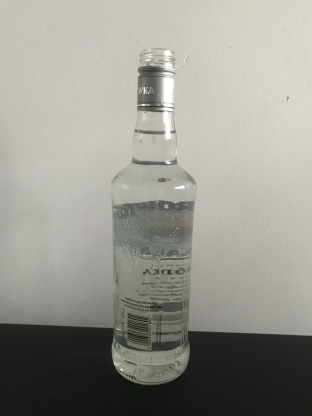nakretka: (135, 45, 177, 113)
